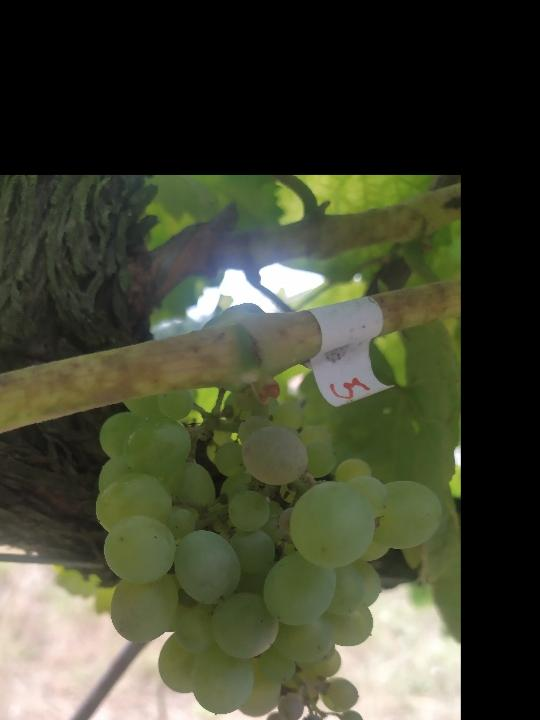grape: (91, 373, 446, 720)
